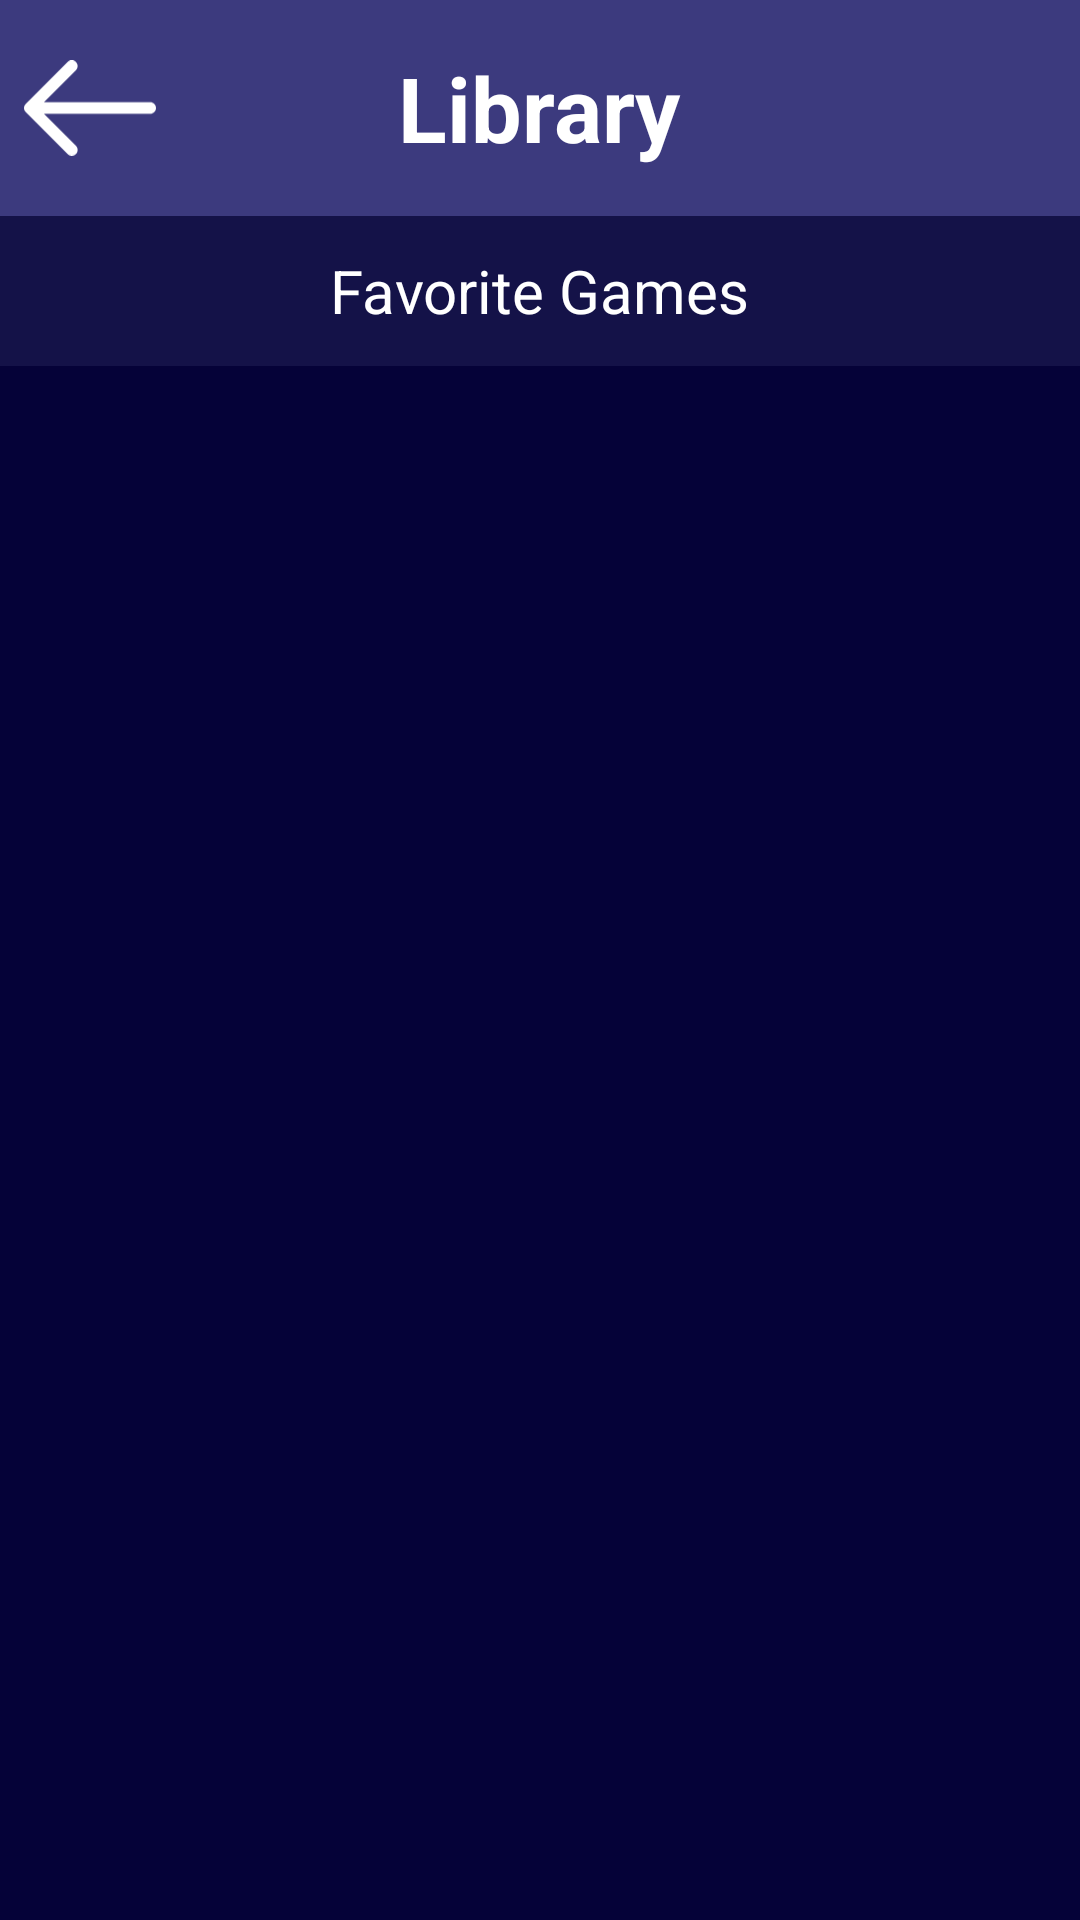

Icons on this 1080 × 1920 Android screen, each with its box as (x1, y1, x2, y2):
back button: (24, 60, 156, 156)
